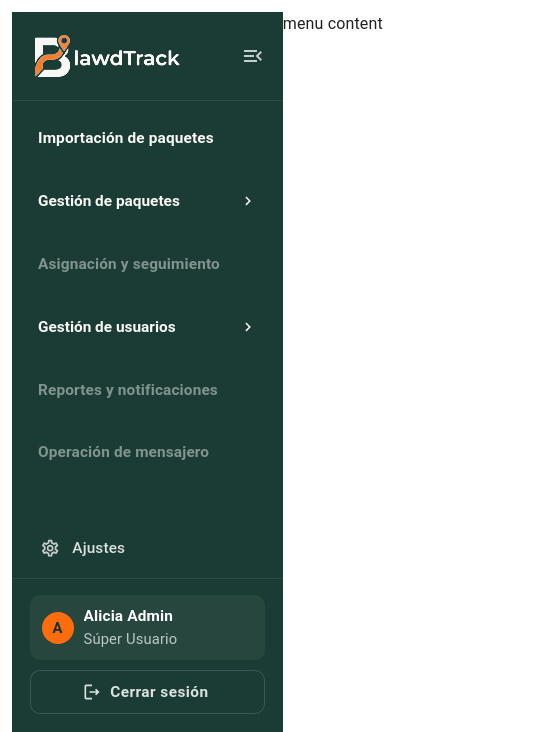
MainMenuLayout sidebar › collapsed sidebar › collapses to one icon per group that opens a menu with its screens, and remembers the choice
Click the button named "Colapsar menú": (253, 56) [231, 34, 275, 78]
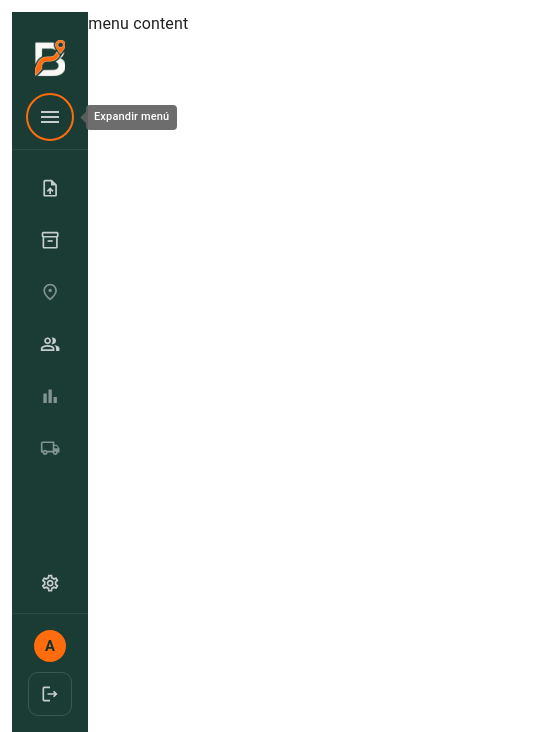
expect the link "Crear mensajero" is not shown: met
expect the button named "Cerrar sesión" is shown: met, box [28, 672, 72, 716]
Click the button named "Gestión de usuarios": (50, 344) [28, 322, 72, 366]
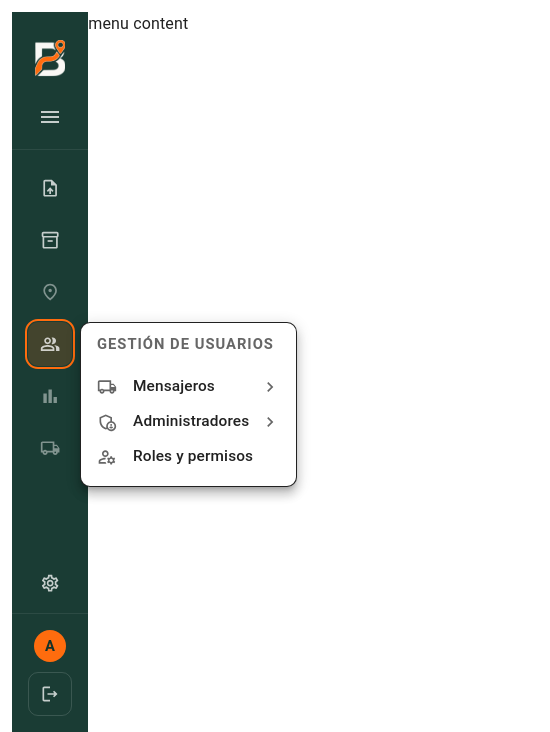
Click the menu item "Mensajeros": (188, 387) [97, 377, 280, 397]
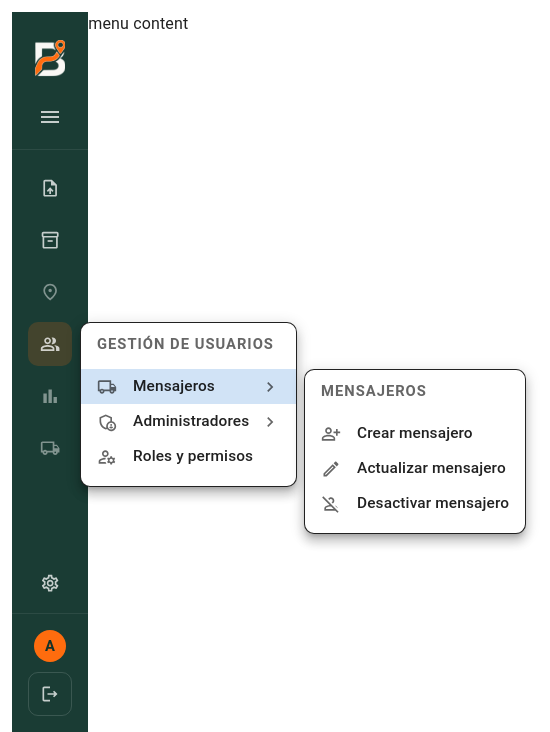
Click the menu item "Crear mensajero": (397, 434) [321, 424, 473, 444]
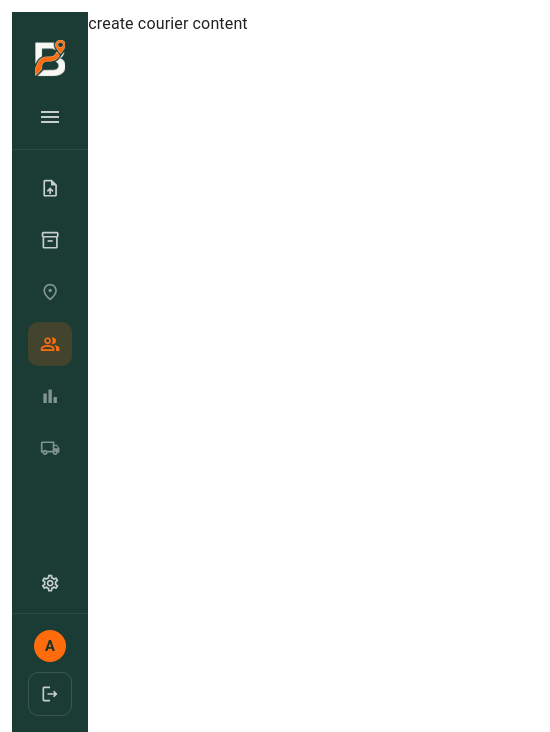
expect the text "create courier content" is shown: met, box [88, 14, 248, 33]
Roles y permisos es una función propia del grupo: sale en el primer cuadro, junto a las dos filas de submenú.
Click the button named "Gestión de usuarios": (50, 344) [28, 322, 72, 366]
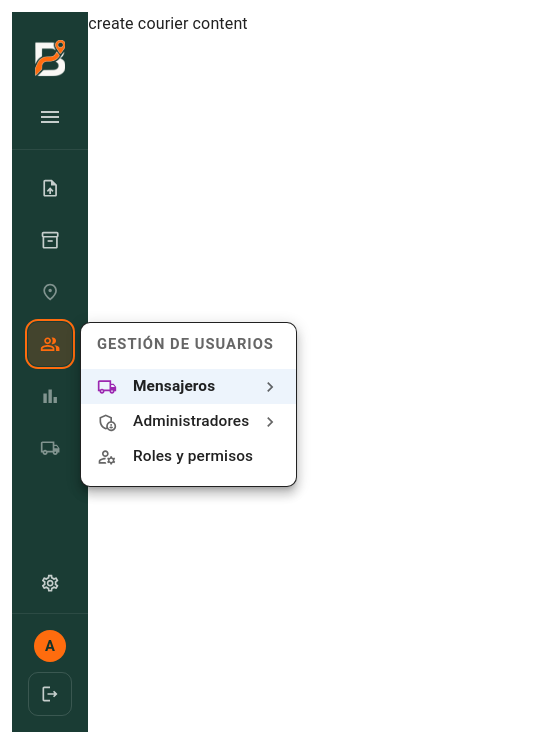
expect the menu item "Roles y permisos" is shown: met, box [97, 447, 253, 467]
Press Escape
Click the button named "Expandir menú": (50, 117) [28, 95, 72, 139]
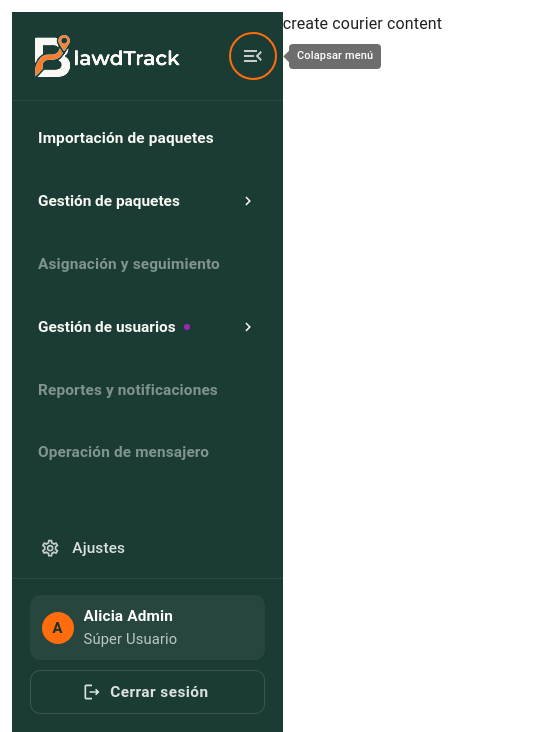
expect the button named "Colapsar menú" is shown: met, box [231, 34, 275, 78]
